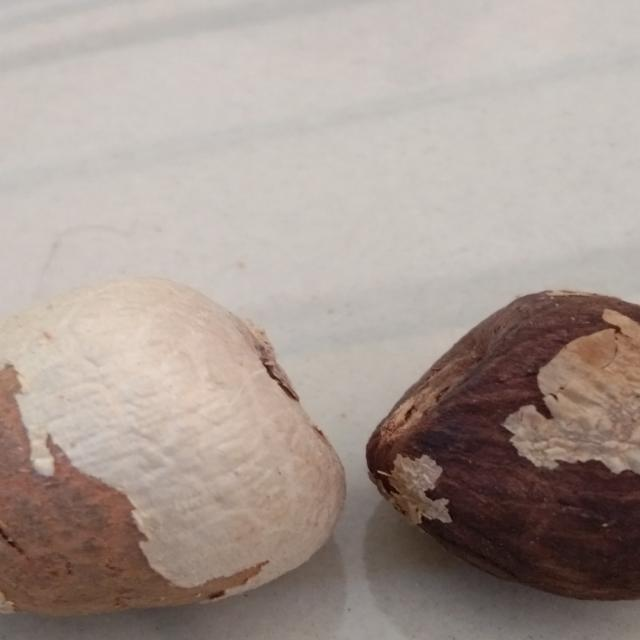karigot: (378, 287, 640, 605)
phatora: (0, 284, 353, 640)
